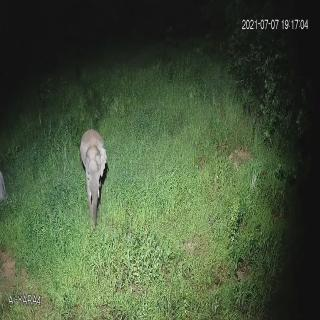Elephant: (76, 121, 111, 230)
